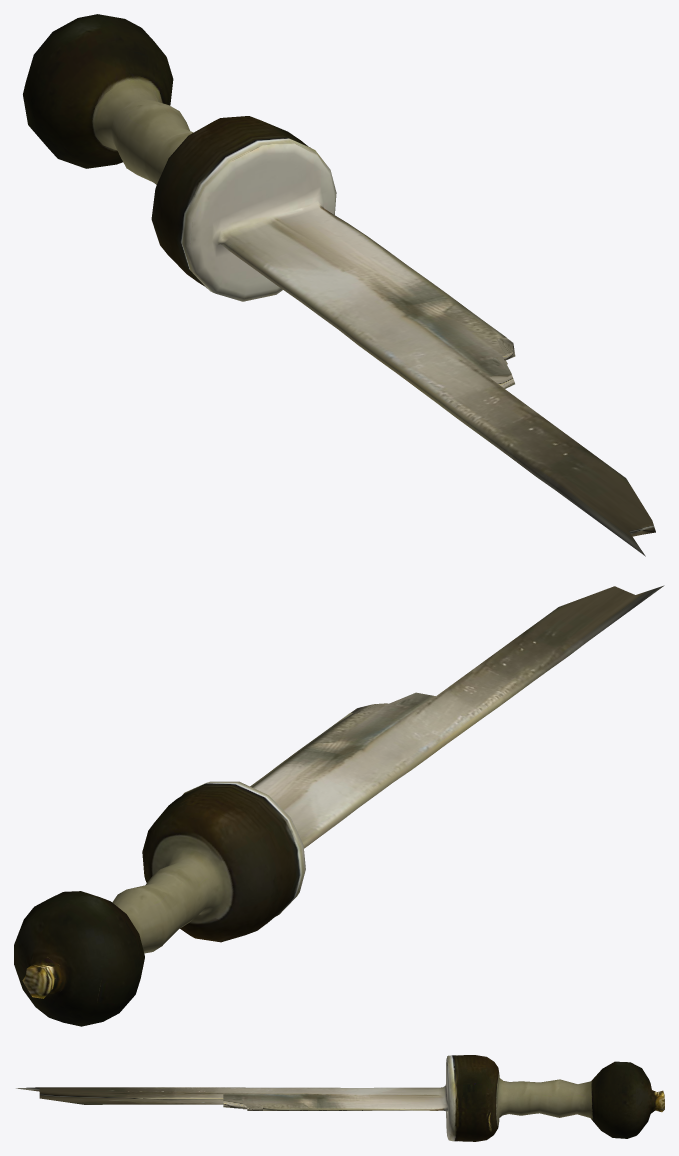
The model's file is sword0.glb.
3 renders of one model, top to bottom at view 1: azimuth 30°, elevation 25°; view 2: azimuth 150°, elevation 25°; view 3: azimuth 270°, elevation 25°, orthographic. The views are drawn at different scales.
Visible parts, largest first — view 1: tripo_node_a8d80c73; view 2: tripo_node_a8d80c73; view 3: tripo_node_a8d80c73.
Part boxes in pixels (x1=…): tripo_node_a8d80c73: x1=23, y1=14, x2=655, y2=556; tripo_node_a8d80c73: x1=14, y1=585, x2=664, y2=1026; tripo_node_a8d80c73: x1=16, y1=1055, x2=664, y2=1141.
Bounding box in the file's own units: 0.1139 × 0.1106 × 0.8279.
Materials: 1 (1 with a texture image).
